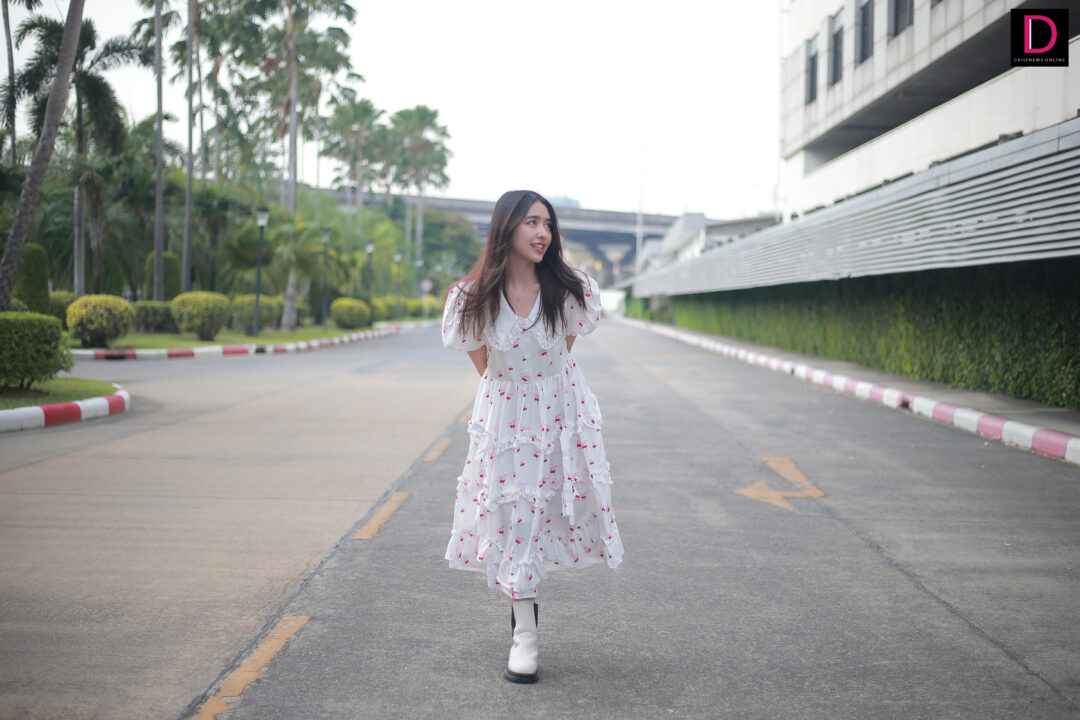person: (431, 184, 619, 691)
